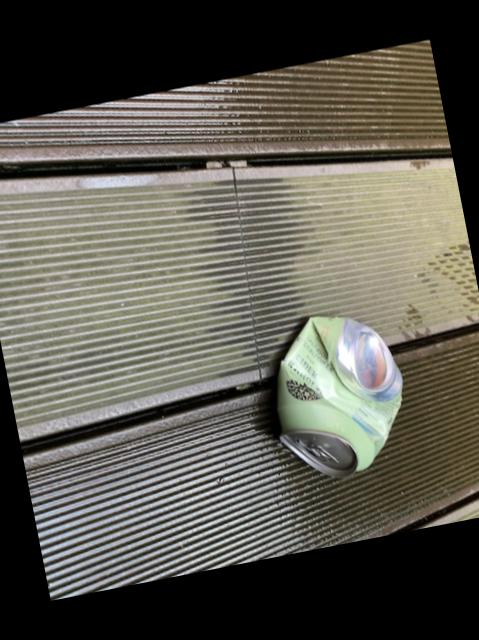metal: (277, 317, 402, 478)
